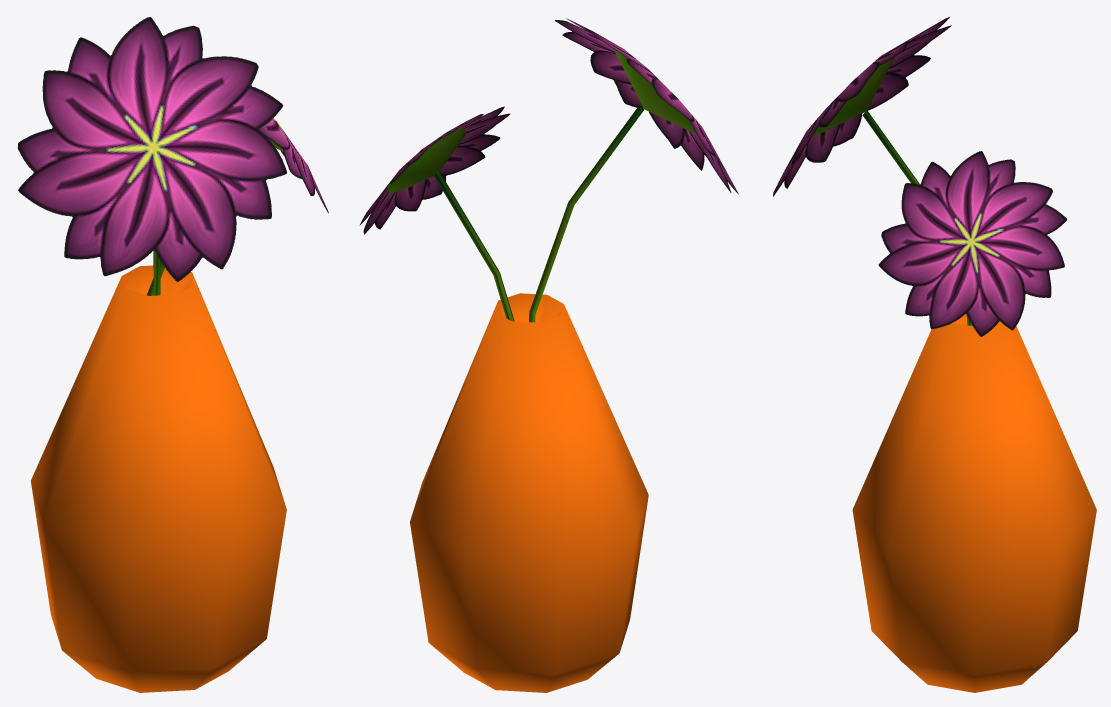
Rendered from Flowers_C_3.FBX.
The picture shows the model from 3 angles, left to right: view 1: azimuth 30°, elevation 25°; view 2: azimuth 150°, elevation 25°; view 3: azimuth 270°, elevation 25°; orthographic projection. The views are drawn at different scales.
Parts seen in each view (by area): view 1: Vase_And_Flowers; view 2: Vase_And_Flowers; view 3: Vase_And_Flowers.
Part boxes in pixels (bbox=[...]): Vase_And_Flowers: bbox=[17, 17, 328, 692]; Vase_And_Flowers: bbox=[359, 18, 738, 692]; Vase_And_Flowers: bbox=[773, 17, 1096, 692].
Bounding box in the file's own units: 80.48 × 155 × 73.7.
